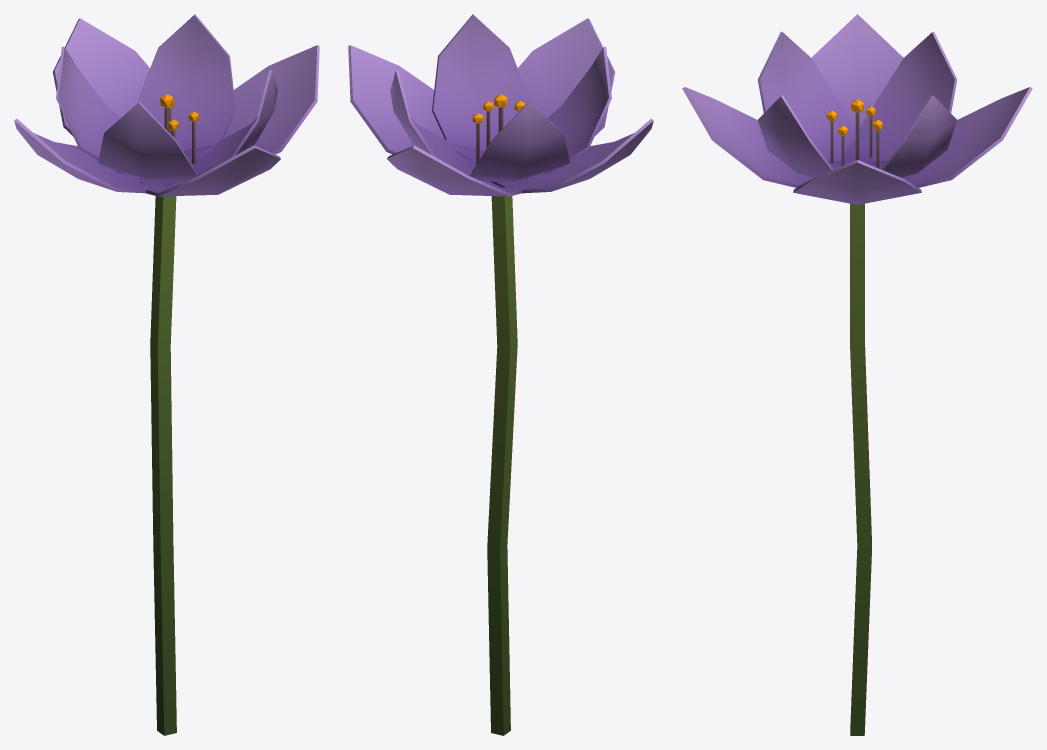
Rendered from PondPlant_03.fbx.
3 views of the same model, side by side, from view 1: azimuth 30°, elevation 25°; view 2: azimuth 150°, elevation 25°; view 3: azimuth 270°, elevation 25° (orthographic).
Parts seen in each view (by area): view 1: PondPlant_03_LOD0; view 2: PondPlant_03_LOD0; view 3: PondPlant_03_LOD0.
Part boxes in pixels (bbox=[...]): PondPlant_03_LOD0: bbox=[14, 14, 319, 735]; PondPlant_03_LOD0: bbox=[348, 14, 653, 735]; PondPlant_03_LOD0: bbox=[682, 14, 1032, 735].
Size of what is drawn, in the model's own units: 0.2557 by 0.5383 by 0.2557.
